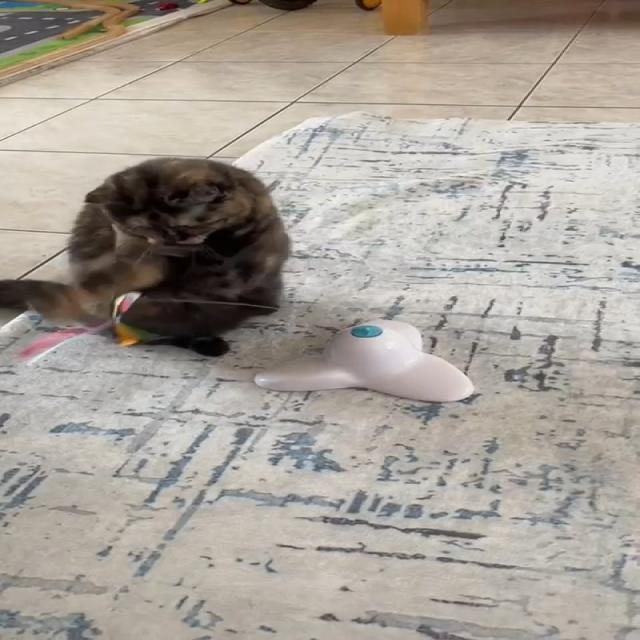authorized: (0, 155, 291, 357)
